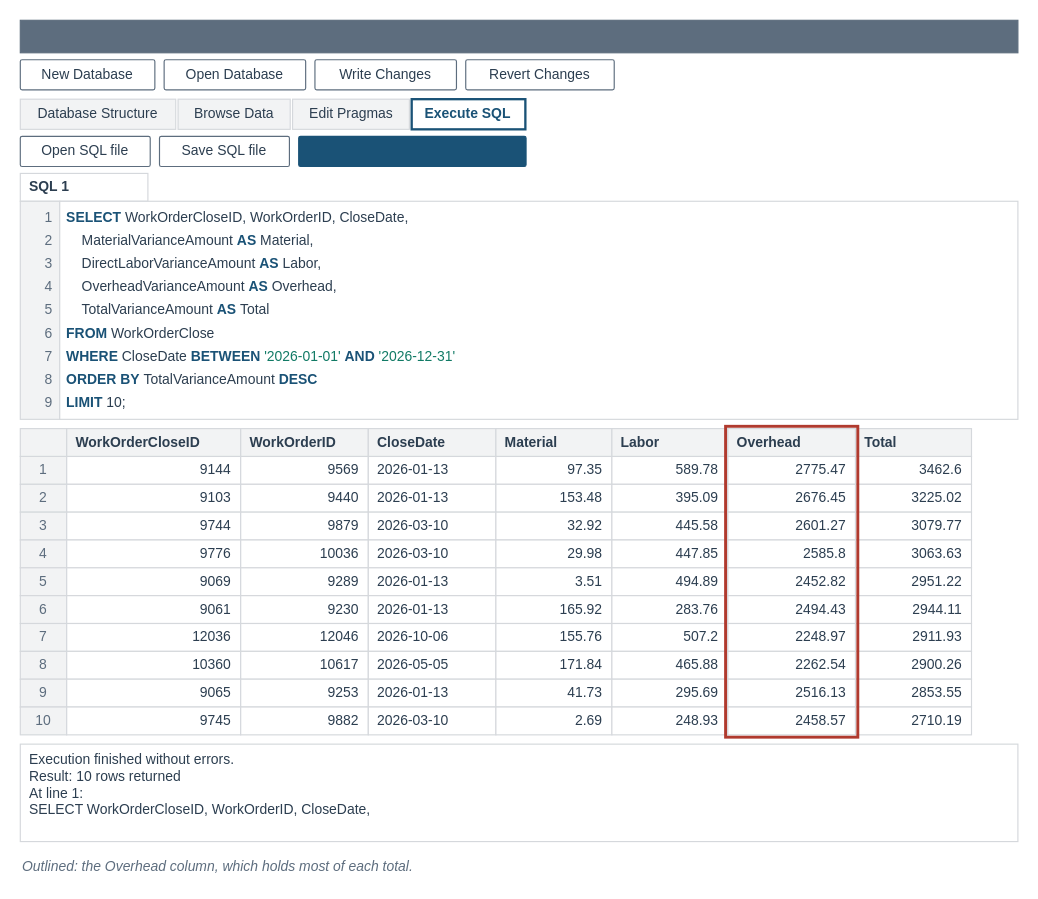
This 1038x899 diagram has some shape labels left out. The centre of each missing label's shape, as x and y in pixels:
DB Browser for SQLite - CharlesRiver_Work.sqlite: the point at 518,36
▶ Execute all/selected SQL: the point at 412,150
